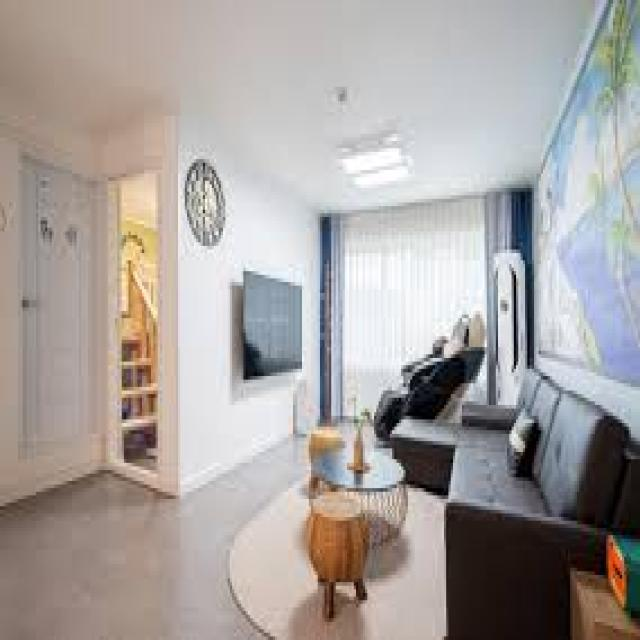Chair: (368, 307, 486, 435)
Sofa: (394, 384, 628, 636)
Table: (309, 441, 416, 537)
tv: (240, 271, 304, 381)
